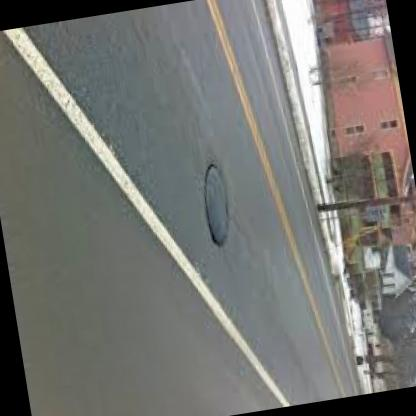manholes: (144, 102, 280, 300)
